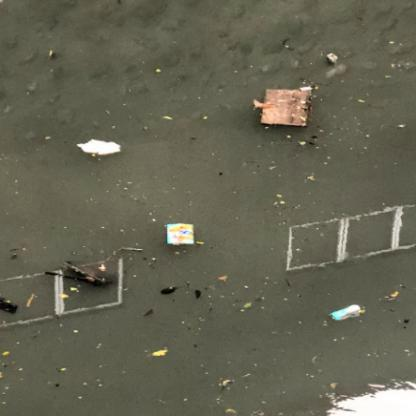Plastic: (327, 300, 365, 324)
Trash: (75, 134, 122, 160), (166, 219, 195, 247)
